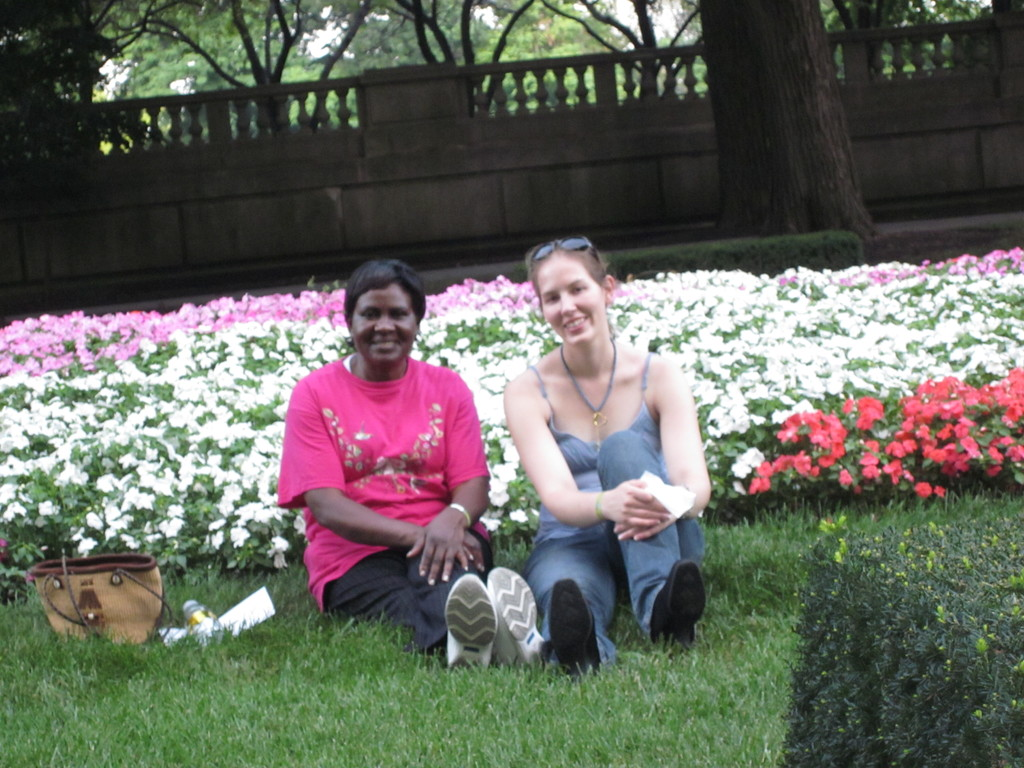Tree: (693, 0, 889, 240), (109, 0, 369, 138), (0, 0, 152, 163), (369, 0, 535, 119), (535, 0, 700, 96), (833, 0, 991, 81)
